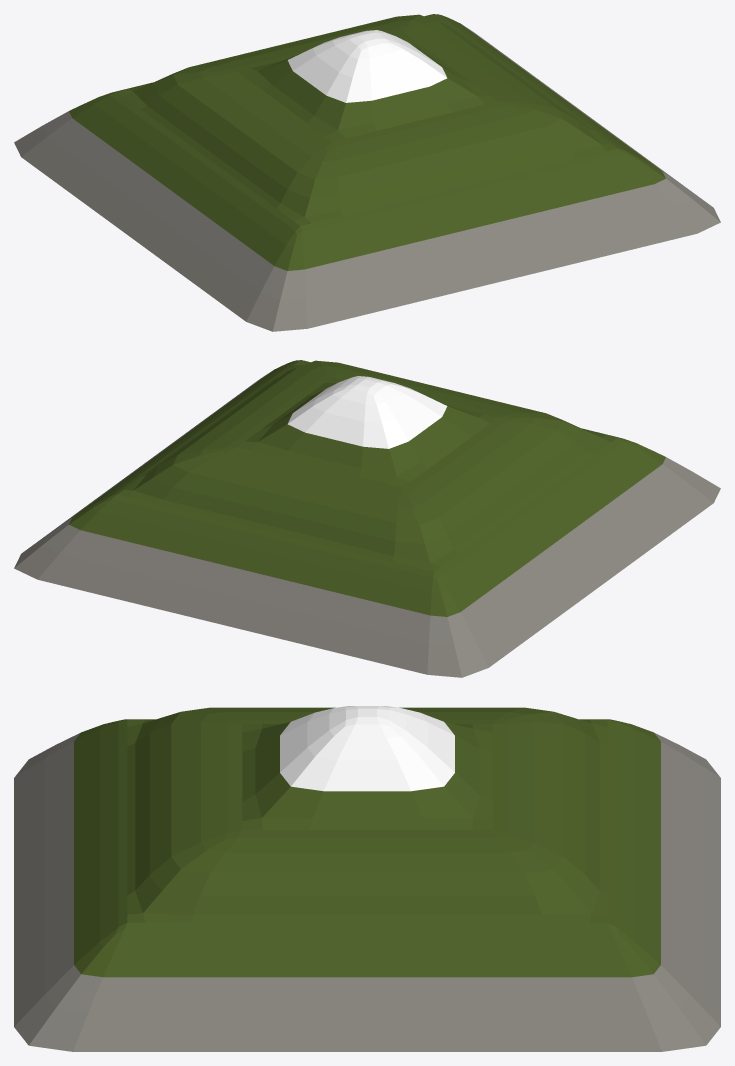
Rendered from Island8.FBX.
The picture shows the model from 3 angles, top to bottom: view 1: azimuth 30°, elevation 25°; view 2: azimuth 150°, elevation 25°; view 3: azimuth 270°, elevation 25°; orthographic projection. The views are drawn at different scales.
Visible parts, largest first — view 1: Plane001; view 2: Plane001; view 3: Plane001.
Part boxes in pixels (box(x1,y1,x2,y2)): Plane001: box(14, 14, 720, 331); Plane001: box(14, 360, 720, 677); Plane001: box(14, 706, 720, 1051).
Bounding box in the file's own units: 60 × 17.77 × 60.
